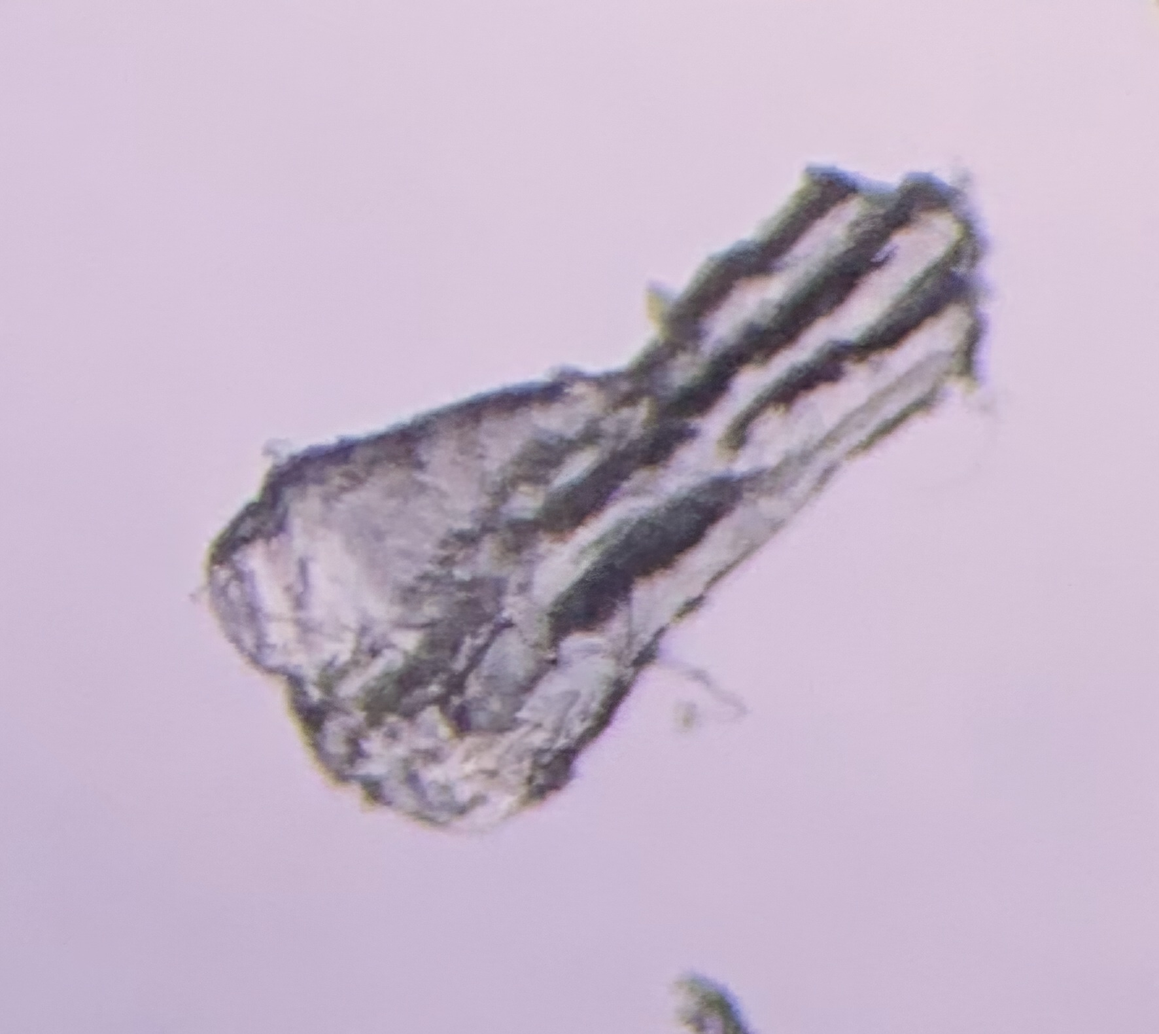microplastic: (188, 160, 999, 838)
